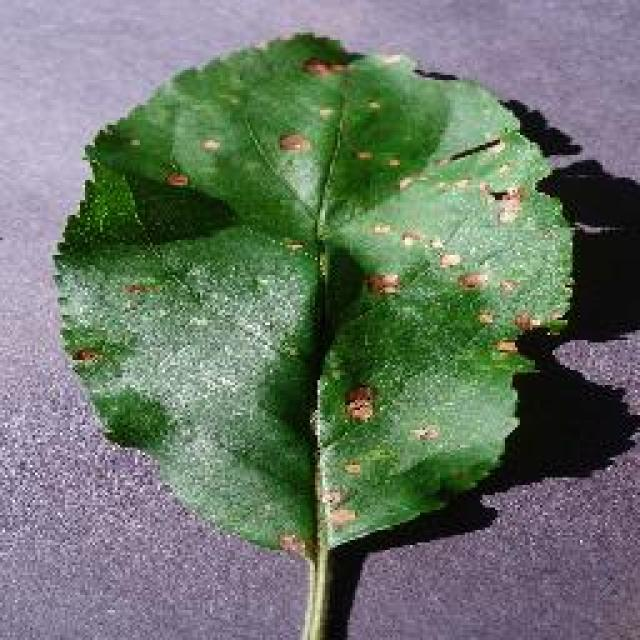Apple___Black_rot: (49, 30, 581, 570)
